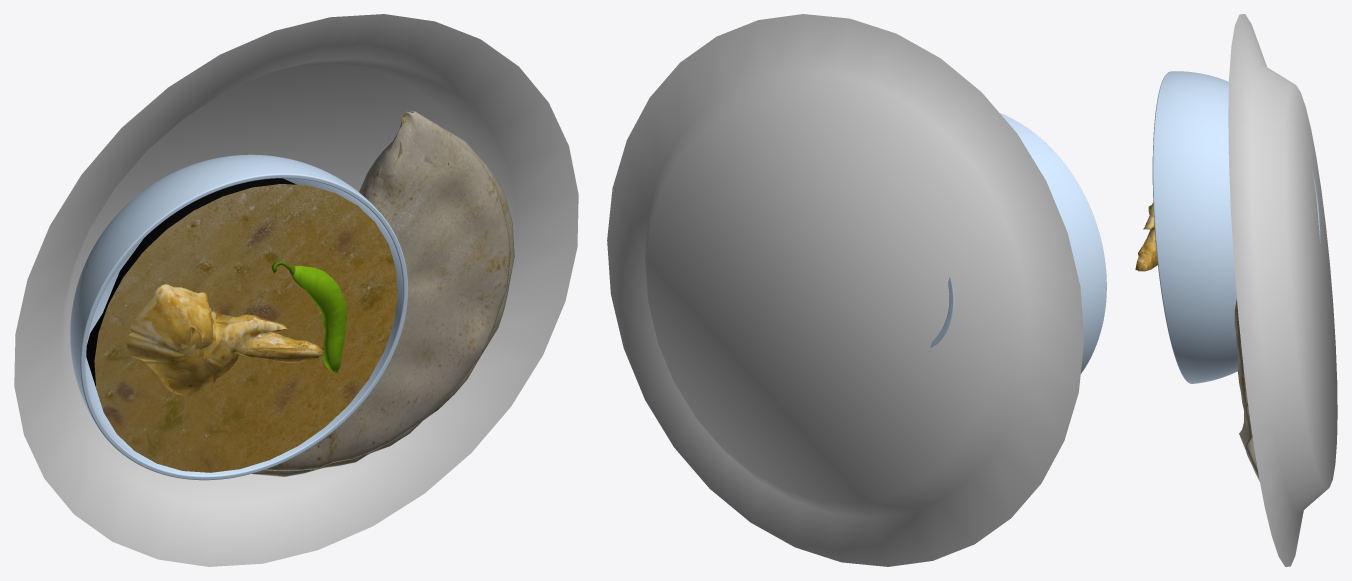
Rendered from korma.glb.
3 views of the same model, side by side, from view 1: azimuth 30°, elevation 25°; view 2: azimuth 150°, elevation 25°; view 3: azimuth 270°, elevation 25° (orthographic). The views are drawn at different scales.
Visible parts, largest first — view 1: Circle.002, coffee.004, Cylinder.001, Kugel.005, Vert.001, Vert; view 2: Circle.002, Kugel.005; view 3: Circle.002, Kugel.005, Cylinder.001, Vert.001.
Boxes of the visible parts, left/top/right/bottom form: Circle.002: left=14, top=14, right=578, bottom=566; coffee.004: left=86, top=178, right=397, bottom=472; Cylinder.001: left=252, top=111, right=514, bottom=476; Kugel.005: left=70, top=154, right=407, bottom=480; Vert.001: left=127, top=284, right=324, bottom=396; Vert: left=271, top=261, right=346, bottom=373; Circle.002: left=607, top=14, right=1084, bottom=566; Kugel.005: left=930, top=113, right=1106, bottom=373; Circle.002: left=1228, top=14, right=1337, bottom=566; Kugel.005: left=1152, top=71, right=1320, bottom=383; Cylinder.001: left=1234, top=299, right=1259, bottom=481; Vert.001: left=1135, top=203, right=1157, bottom=271.
Bounding box in the file's own units: 8.73 × 8.68 × 3.18.
6 materials, 4 textured.
